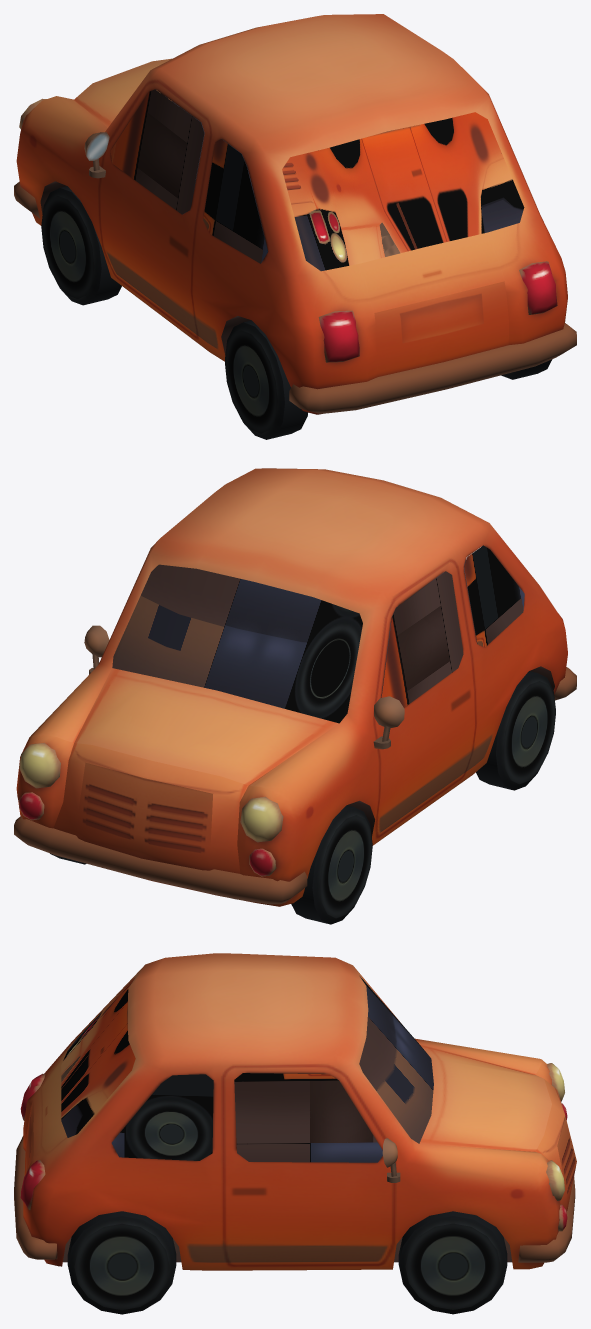
Rendered from car_robber.glb.
3 renders of one model, top to bottom at view 1: azimuth 30°, elevation 25°; view 2: azimuth 150°, elevation 25°; view 3: azimuth 270°, elevation 25°, orthographic. The views are drawn at different scales.
Visible parts, largest first — view 1: car002, car00b002, car00l006, car00l005; view 2: car002, car00b002, car00l005, car00l006; view 3: car002, car00b002, Object152, Object153.
Part boxes in pixels (bbox=[...]): car002: bbox=[14, 14, 576, 414]; car00b002: bbox=[110, 89, 524, 271]; car00l006: bbox=[225, 320, 307, 439]; car00l005: bbox=[41, 186, 121, 305]; car002: bbox=[14, 468, 576, 906]; car00b002: bbox=[112, 545, 524, 723]; car00l005: bbox=[291, 805, 372, 924]; car00l006: bbox=[476, 671, 555, 790]; car002: bbox=[14, 953, 576, 1270]; car00b002: bbox=[61, 976, 433, 1162]; Object152: bbox=[67, 1211, 176, 1314]; Object153: bbox=[398, 1211, 507, 1314].
Bounding box in the file's own units: 2.12 × 1.84 × 3.6.
3 materials, 3 textured.
